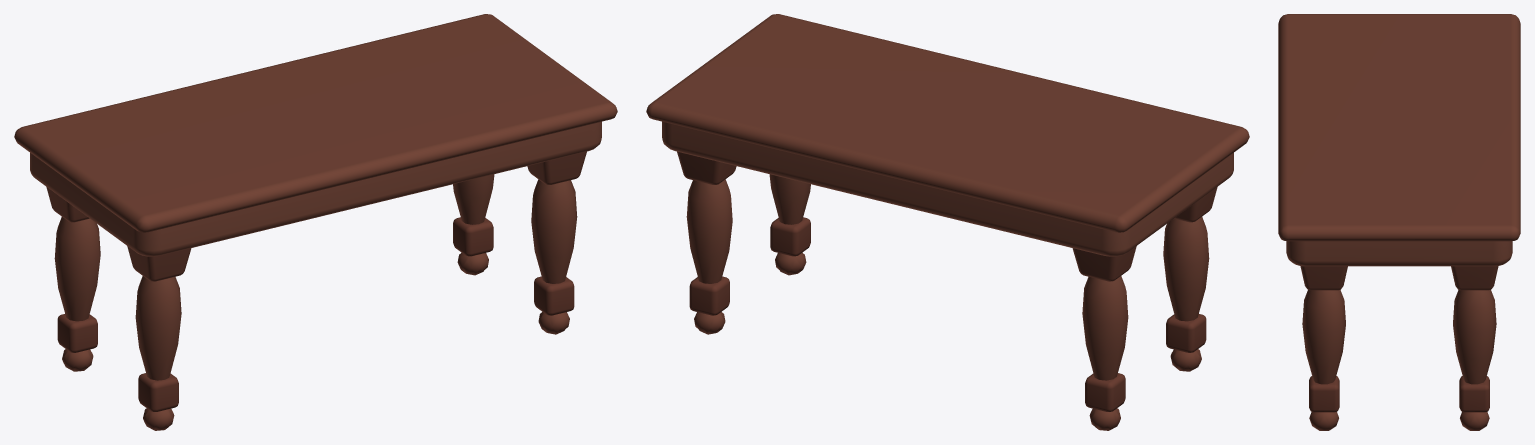
The model's file is Kitchen_Table_001.fbx.
3 renders of one model, left to right at view 1: azimuth 30°, elevation 25°; view 2: azimuth 150°, elevation 25°; view 3: azimuth 270°, elevation 25°, orthographic. The views are drawn at different scales.
Parts seen in each view (by area): view 1: Kitchen_Table_001; view 2: Kitchen_Table_001; view 3: Kitchen_Table_001.
Boxes of the visible parts, x1,y1,x2,y2 form: Kitchen_Table_001: (14, 14, 617, 430); Kitchen_Table_001: (646, 14, 1249, 430); Kitchen_Table_001: (1278, 14, 1520, 430).
Bounding box in the file's own units: 1.6 × 0.7527 × 0.75.
